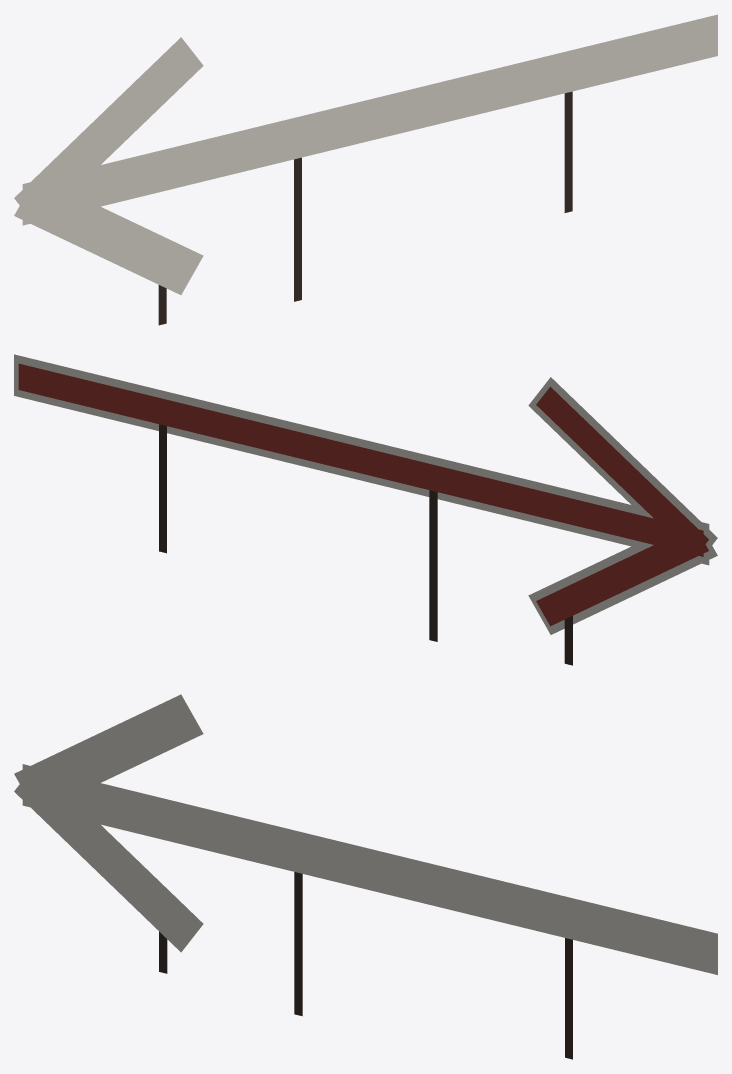
File: graffiti_arrow.glb
3 renders of one model, top to bottom at view 1: azimuth 30°, elevation 25°; view 2: azimuth 150°, elevation 25°; view 3: azimuth 330°, elevation 25°, orthographic.
Visible parts, largest first — view 1: graffiti_arrow; view 2: graffiti_arrow; view 3: graffiti_arrow.
Part boxes in pixels (bbox=[...]): graffiti_arrow: bbox=[14, 14, 717, 325]; graffiti_arrow: bbox=[14, 354, 717, 665]; graffiti_arrow: bbox=[14, 694, 717, 1059].
Bounding box in the file's own units: 3.9 × 1.55 × 0.005.
2 materials, 2 textured.
